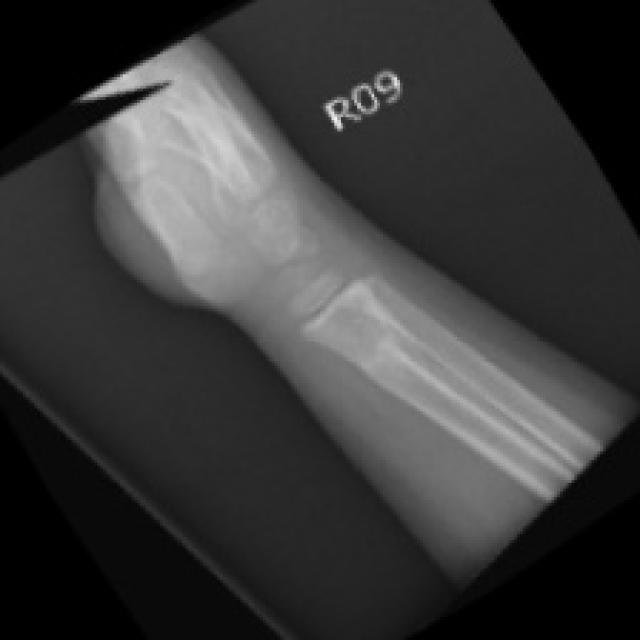fracture: (347, 297, 433, 408)
